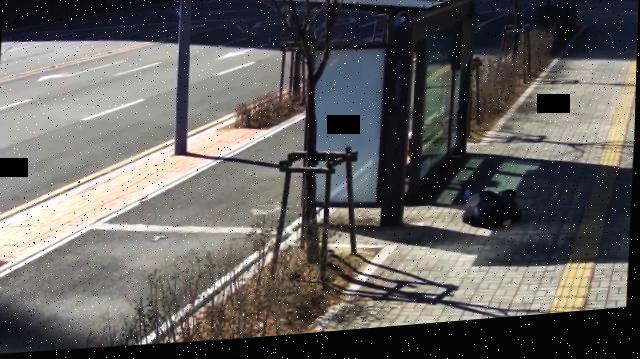fall: (459, 190, 525, 242)
